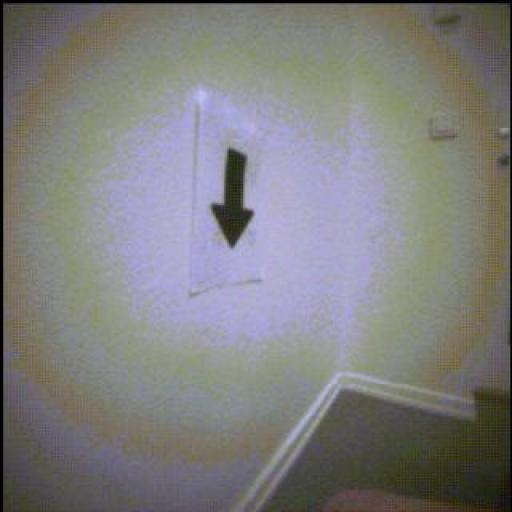arrow: (212, 150, 254, 249)
